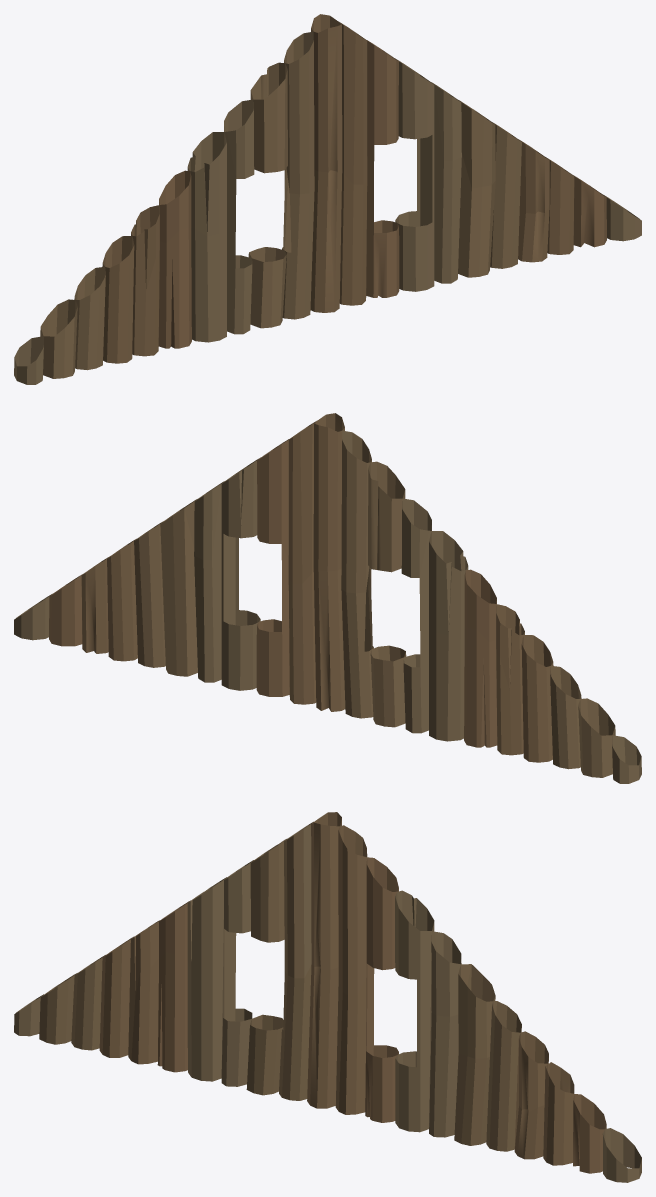
The model's file is rpgpp_ag_roof_end_01_9x4_wall_window_02d.fbx.
3 views of the same model, one above another, from view 1: azimuth 30°, elevation 25°; view 2: azimuth 150°, elevation 25°; view 3: azimuth 330°, elevation 25° (orthographic).
Visible parts, largest first — view 1: rpgpp_ag_roof_end_01_9x4_wall_window_02d; view 2: rpgpp_ag_roof_end_01_9x4_wall_window_02d; view 3: rpgpp_ag_roof_end_01_9x4_wall_window_02d.
Part boxes in pixels (x1,y1,x2,y2): rpgpp_ag_roof_end_01_9x4_wall_window_02d: [14, 14, 641, 384]; rpgpp_ag_roof_end_01_9x4_wall_window_02d: [14, 413, 641, 783]; rpgpp_ag_roof_end_01_9x4_wall_window_02d: [14, 812, 641, 1182].
Bounding box in the file's own units: 9 × 3.93 × 0.4626.
